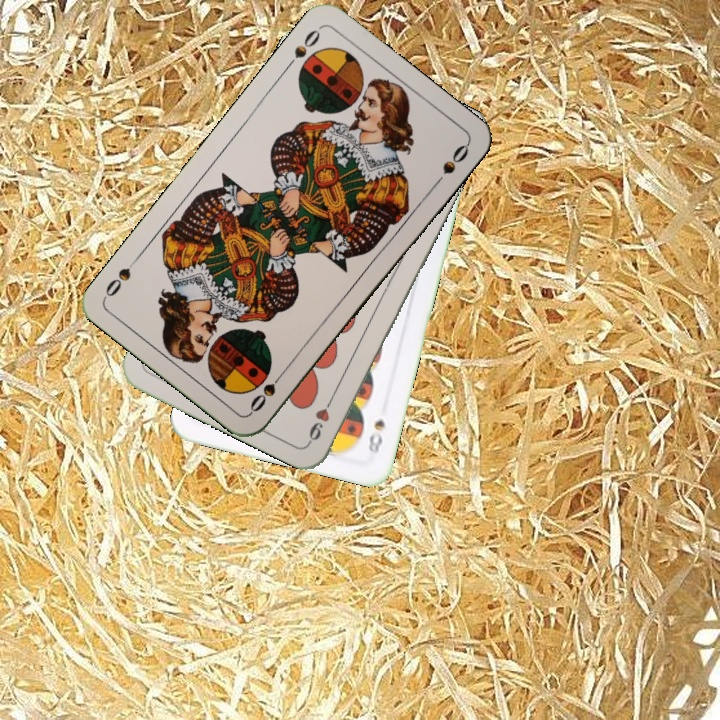H9: (304, 391, 337, 446)
S8: (364, 415, 388, 457)
SO: (245, 366, 288, 416), (281, 25, 323, 73)
